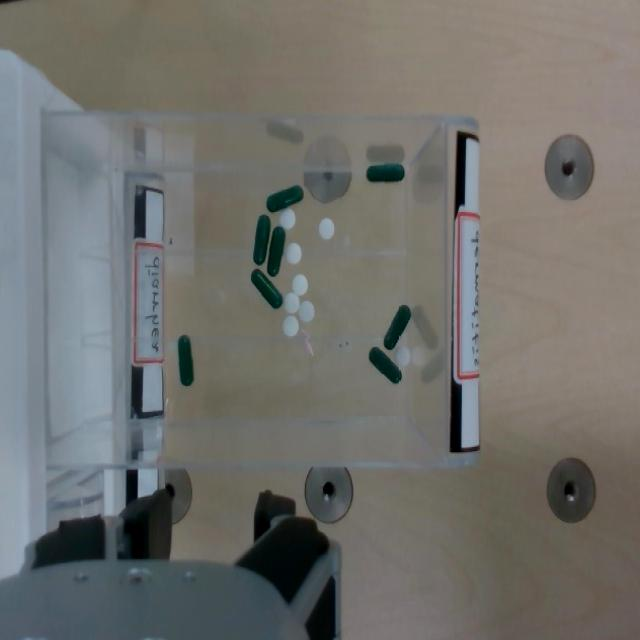ganakan_tab: (282, 313, 300, 338), (278, 208, 296, 230), (285, 243, 302, 266), (291, 274, 308, 297), (283, 292, 300, 315), (395, 345, 412, 367), (298, 300, 315, 322), (319, 218, 335, 241)
monodoxy_cap: (367, 346, 402, 385), (383, 303, 412, 349), (251, 269, 283, 310), (252, 269, 284, 308), (385, 305, 411, 350), (370, 347, 402, 383), (266, 184, 304, 213), (252, 213, 271, 266), (266, 226, 286, 276), (267, 185, 304, 212), (177, 333, 195, 387), (268, 227, 286, 275), (254, 215, 271, 265), (365, 163, 405, 184), (178, 335, 194, 385), (367, 163, 405, 181)
